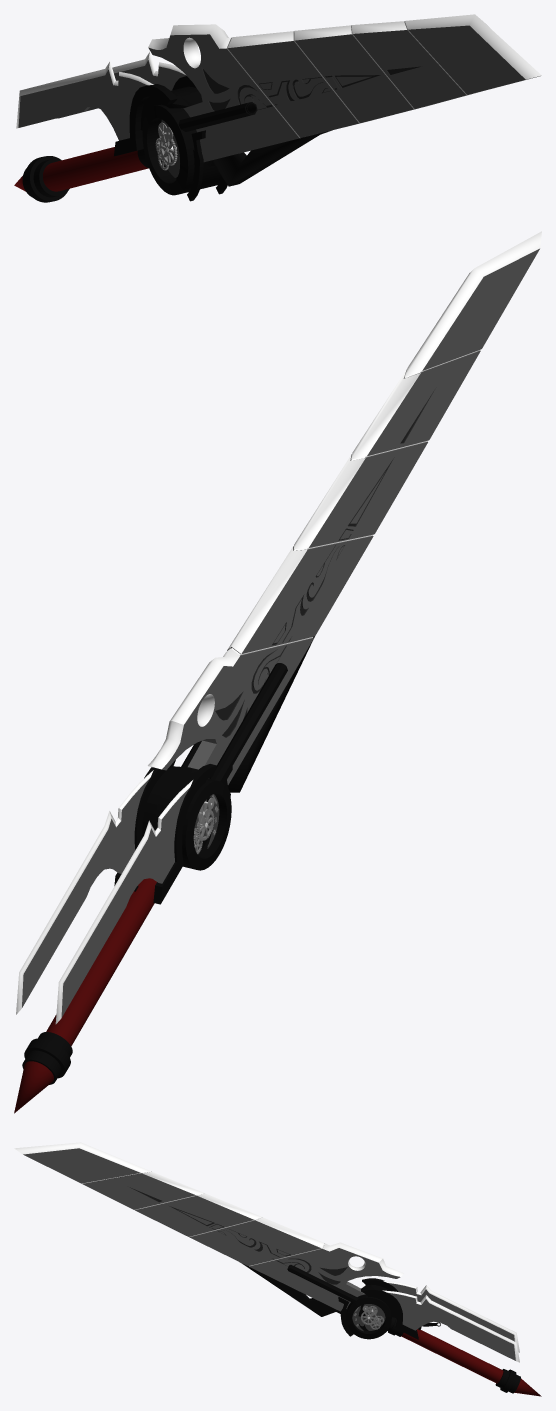
File: HarbingerSwordexport.fbx
The picture shows the model from 3 angles, top to bottom: view 1: azimuth 30°, elevation 25°; view 2: azimuth 150°, elevation 25°; view 3: azimuth 270°, elevation 25°; orthographic projection. The views are drawn at different scales.
Visible parts, largest first — view 1: Plane030, Plane023, Plane026, Plane024, Plane029, Plane025, Tube001, Plane015, Cylinder016, Plane028, Plane010, Box001 (+4 smaller); view 2: Plane030, Plane023, Plane026, Plane024, Plane025, Plane029, Plane010, Cylinder016, Plane015, Tube001, Box001, Plane028 (+1 smaller); view 3: Plane030, Plane023, Plane026, Plane024, Plane010, Plane025, Cylinder016, Plane029, Plane015, Tube001, Box002, Plane004.
Boxes of the visible parts, bbox=[...] form: Plane030: bbox=[148, 24, 300, 162]; Plane023: bbox=[227, 31, 367, 137]; Plane026: bbox=[405, 14, 541, 94]; Plane024: bbox=[294, 25, 420, 122]; Plane029: bbox=[16, 61, 153, 140]; Plane025: bbox=[351, 21, 476, 108]; Tube001: bbox=[142, 104, 221, 195]; Plane015: bbox=[140, 86, 331, 186]; Cylinder016: bbox=[43, 147, 148, 191]; Plane028: bbox=[114, 84, 177, 156]; Plane010: bbox=[56, 52, 186, 118]; Box001: bbox=[178, 102, 257, 131]; Plane030: bbox=[148, 637, 313, 784]; Plane023: bbox=[227, 535, 373, 655]; Plane026: bbox=[404, 231, 541, 377]; Plane024: bbox=[293, 441, 427, 550]; Plane025: bbox=[351, 350, 480, 460]; Plane029: bbox=[55, 780, 192, 1024]; Plane010: bbox=[16, 770, 153, 1014]; Cylinder016: bbox=[46, 878, 156, 1046]; Plane015: bbox=[142, 636, 314, 837]; Tube001: bbox=[182, 778, 231, 870]; Box001: bbox=[209, 663, 287, 782]; Plane028: bbox=[153, 764, 216, 904]; Plane030: bbox=[249, 1242, 403, 1311]; Plane023: bbox=[189, 1217, 324, 1266]; Plane026: bbox=[14, 1142, 150, 1183]; Plane024: bbox=[135, 1193, 261, 1236]; Plane010: bbox=[382, 1290, 519, 1362]; Plane025: bbox=[82, 1171, 204, 1209]; Cylinder016: bbox=[401, 1329, 503, 1383]; Plane029: bbox=[383, 1280, 519, 1352]; Plane015: bbox=[105, 1173, 396, 1317]; Tube001: bbox=[346, 1288, 391, 1339]; Box002: bbox=[287, 1265, 358, 1302]; Plane004: bbox=[362, 1288, 418, 1339].
Size of the model in its own units: 13.09 by 134 by 253.
